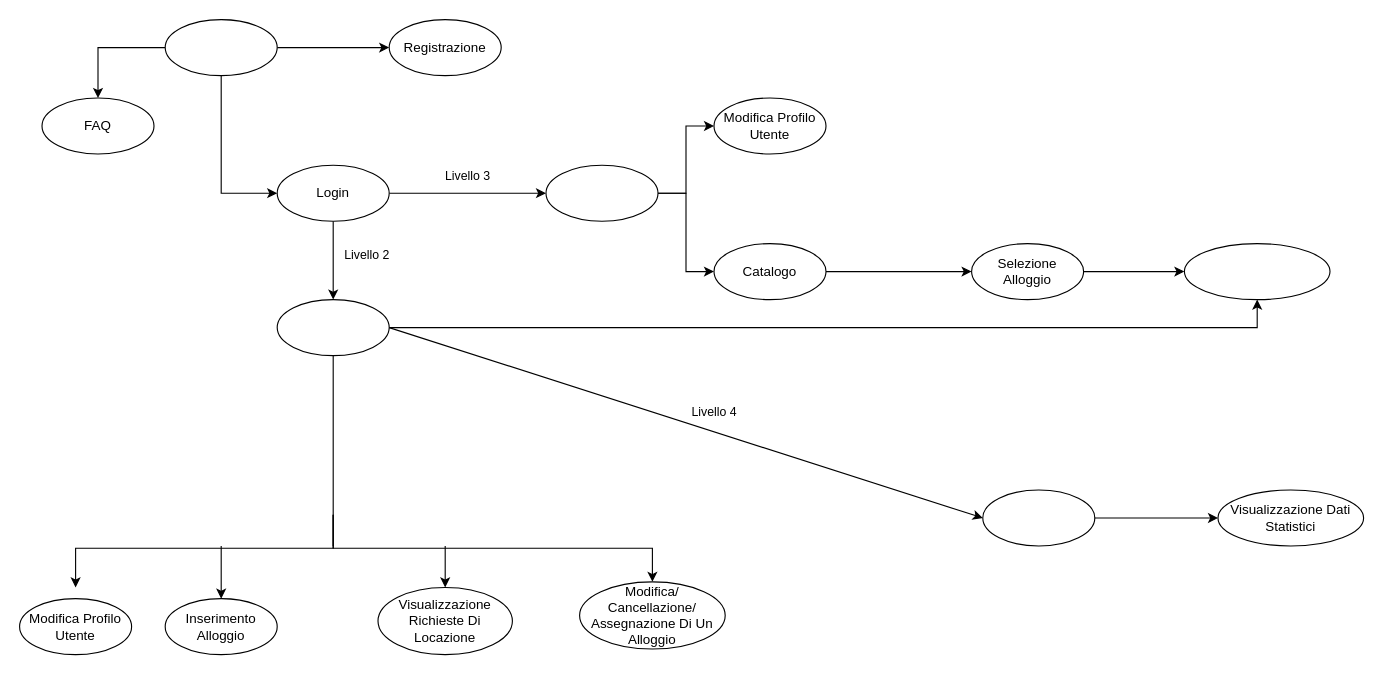
This 1383x674 diagram has some shape labels left out. The shapes that lost their labels are listed below. From the top down, each one's centre as x and y in pixels, then its label:
At point (220, 47): "Home".
At point (601, 192): "Area Locatario".
At point (1256, 271): "Comunicazione Locatore - Locatario".
At point (332, 327): "Area Riservata Locatore".
At point (1038, 517): "Area Riservata Admin".
